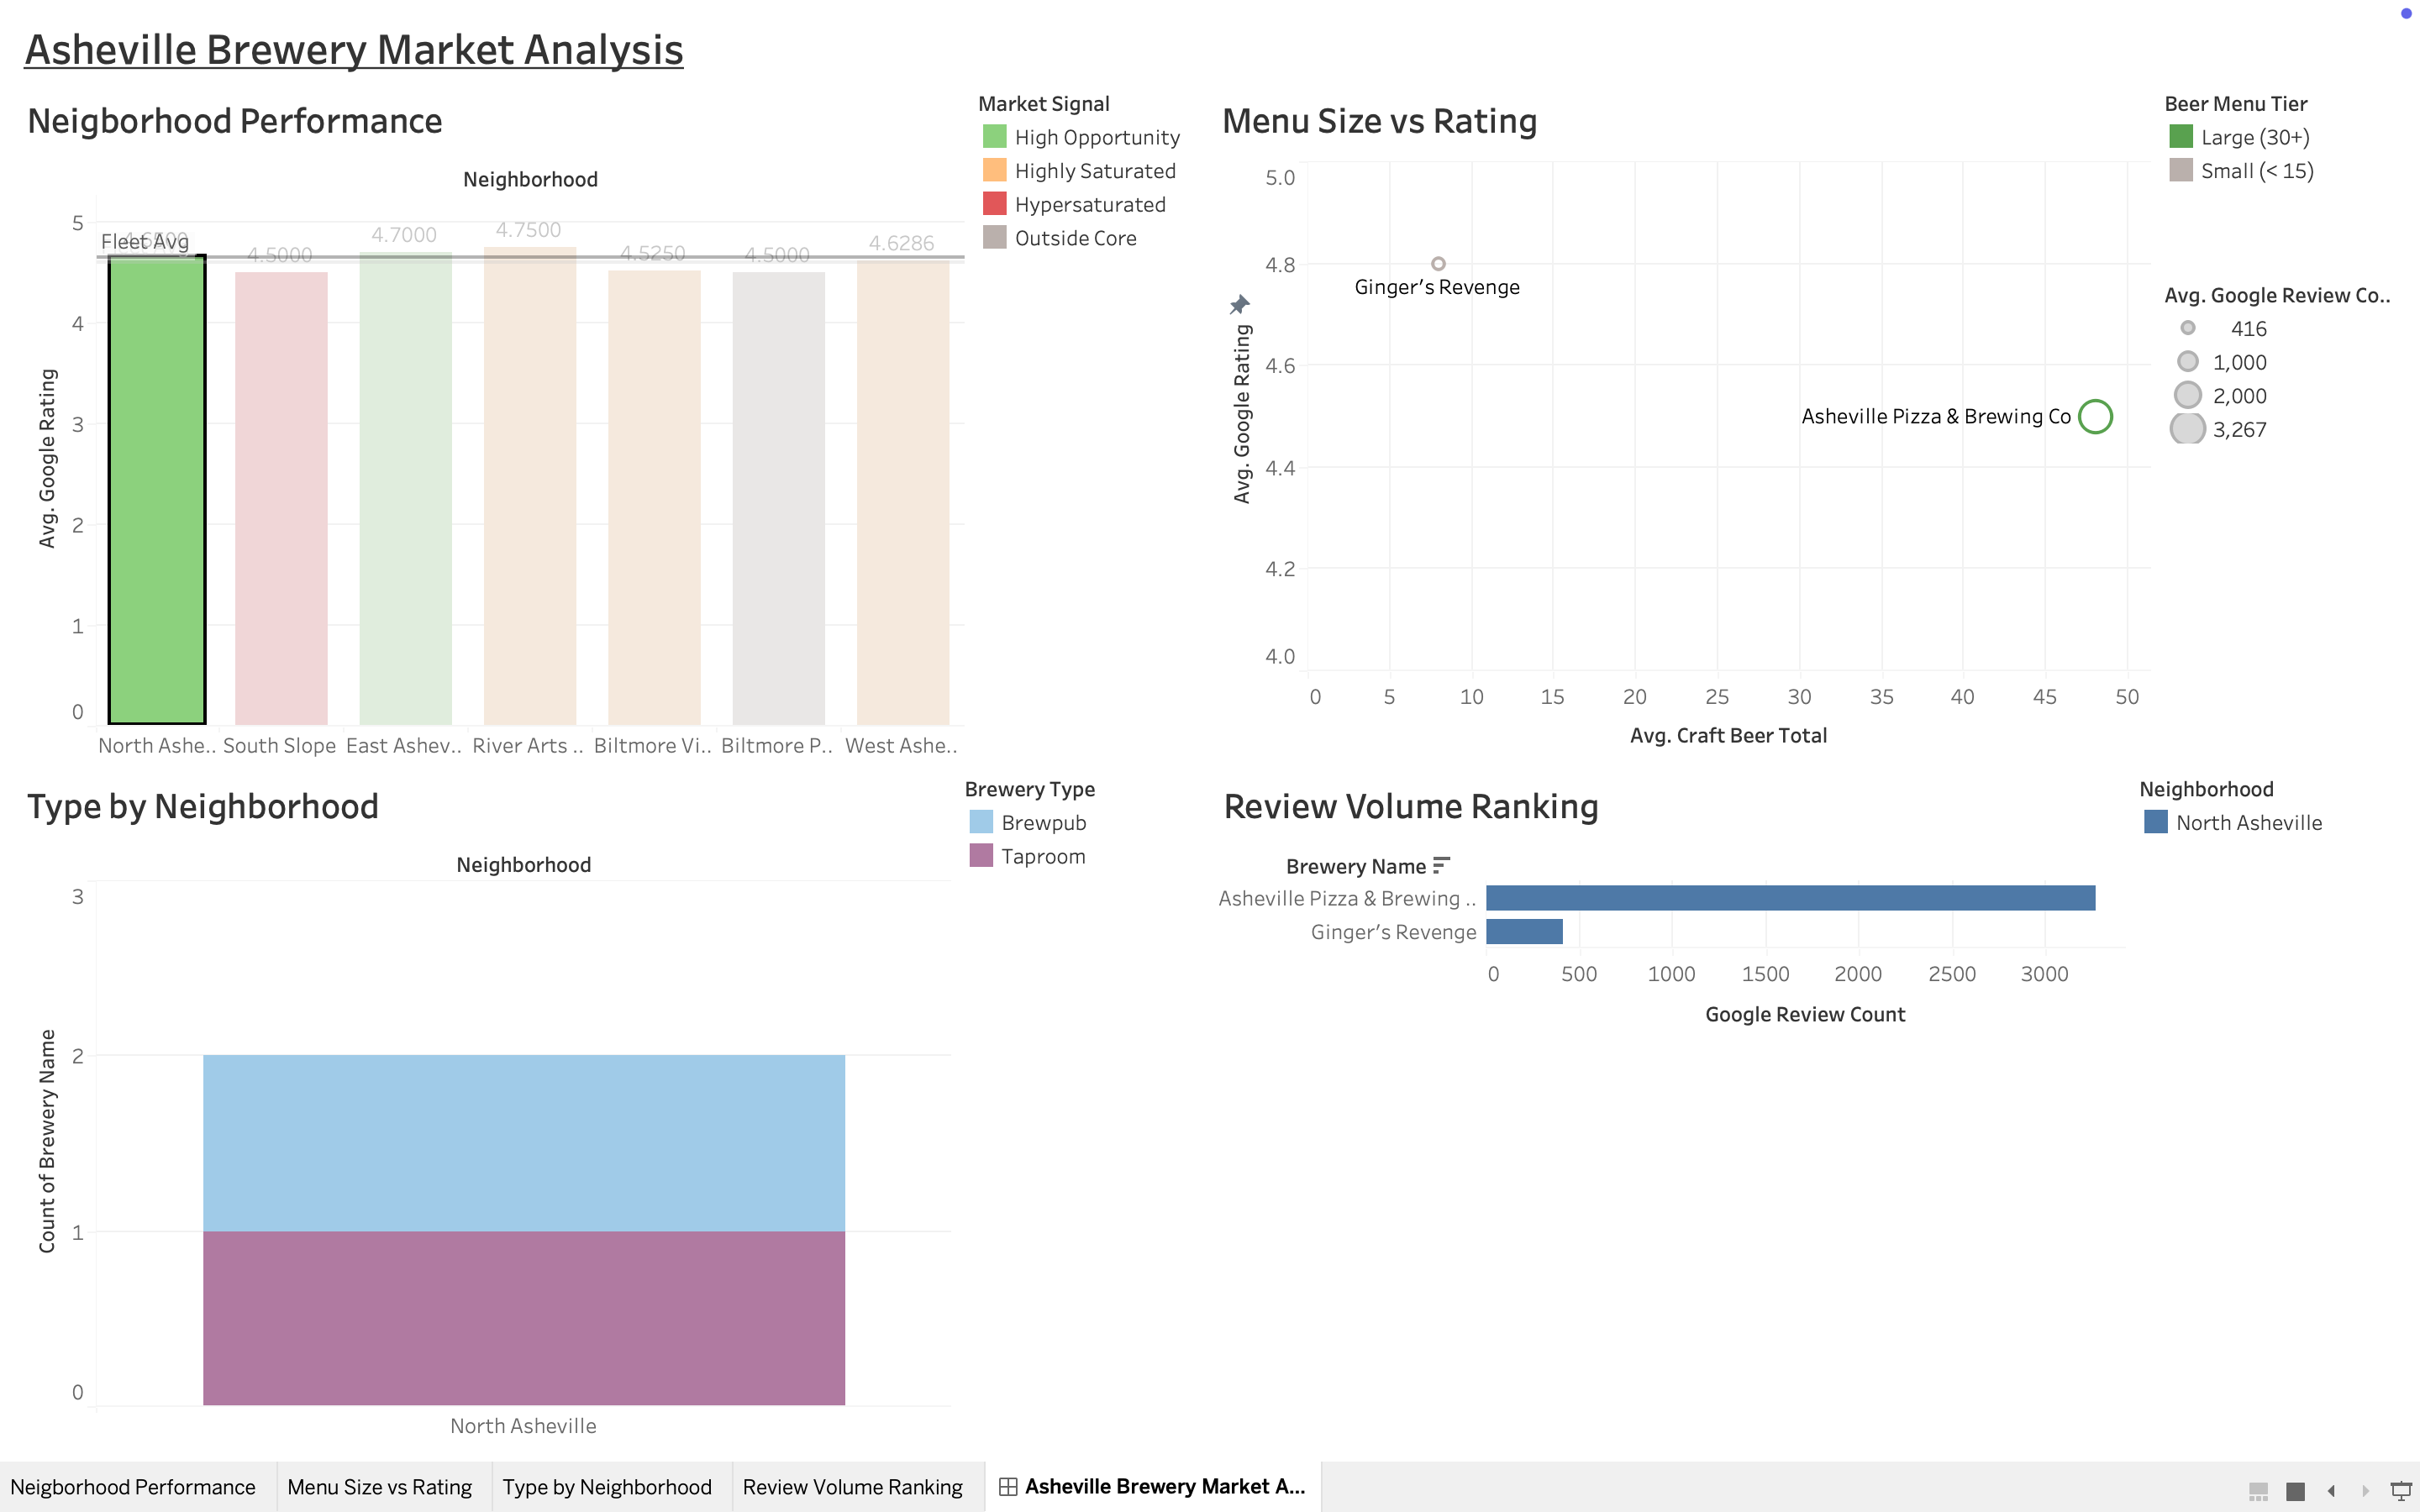

What the dashboard file says about the page in this screenshot:
{"tool":"tableau","page":{"name":"Asheville Brewery Market Analysis","canvas":[1000,1000],"units":"permille","ordinal":0},"visuals":[{"type":"title","box":[16.1,11.8,967.8,60.5]},{"type":"worksheet","title":"Neigborhood Performance","mark":"Automatic","rows":["google_rating"],"cols":["neighborhood"],"box":[16.1,72.3,199.7,459.9]},{"type":"legend","title":"Neigborhood Performance","param":"[federated.0e7pakv050v0t112rgxxq1gu1ju3].[none:market_signal:nk]","box":[215.8,72.3,283.7,156.3]},{"type":"worksheet","title":"Menu Size vs Rating","mark":"Automatic","rows":["google_rating"],"cols":["craft_beer_total"],"box":[499.5,72.3,383.8,459.9]},{"type":"legend","title":"Menu Size vs Rating","param":"[federated.0e7pakv050v0t112rgxxq1gu1ju3].[none:beer_menu_tier:nk]","box":[883.3,72.3,100.6,128.5]},{"type":"legend","title":"Menu Size vs Rating","param":"[federated.0e7pakv050v0t112rgxxq1gu1ju3].[avg:google_review_count:qk]","box":[883.3,200.7,100.6,331.4]},{"type":"worksheet","title":"Type by Neighborhood","mark":"Automatic","rows":["brewery_name"],"cols":["neighborhood"],"box":[16.1,532.2,382.1,456]},{"type":"legend","title":"Type by Neighborhood","param":"[federated.0e7pakv050v0t112rgxxq1gu1ju3].[none:brewery_type:nk]","box":[398.2,532.2,101.8,456]},{"type":"worksheet","title":"Review Volume Ranking","mark":"Automatic","rows":["brewery_name"],"cols":["google_review_count"],"box":[500,532.2,372.9,456]},{"type":"legend","title":"Review Volume Ranking","param":"[federated.0e7pakv050v0t112rgxxq1gu1ju3].[none:neighborhood:nk]","box":[872.9,532.2,111,456]}]}

Visuals, with their boxes on the dashboard's canvas, which has no fixed pixel size, in thousandths of its width and height (x1, y1, x2, y2). These are canvas units, not pixel positions in the 2420x1512 screenshot, which may show the page scaled, cropped or inside an application window:
title: (16, 12, 984, 72)
"Neigborhood Performance" worksheet: (16, 72, 216, 532)
"Neigborhood Performance" legend: (216, 72, 500, 229)
"Menu Size vs Rating" worksheet: (500, 72, 883, 532)
"Menu Size vs Rating" legend: (883, 72, 984, 201)
"Menu Size vs Rating" legend: (883, 201, 984, 532)
"Type by Neighborhood" worksheet: (16, 532, 398, 988)
"Type by Neighborhood" legend: (398, 532, 500, 988)
"Review Volume Ranking" worksheet: (500, 532, 873, 988)
"Review Volume Ranking" legend: (873, 532, 984, 988)
